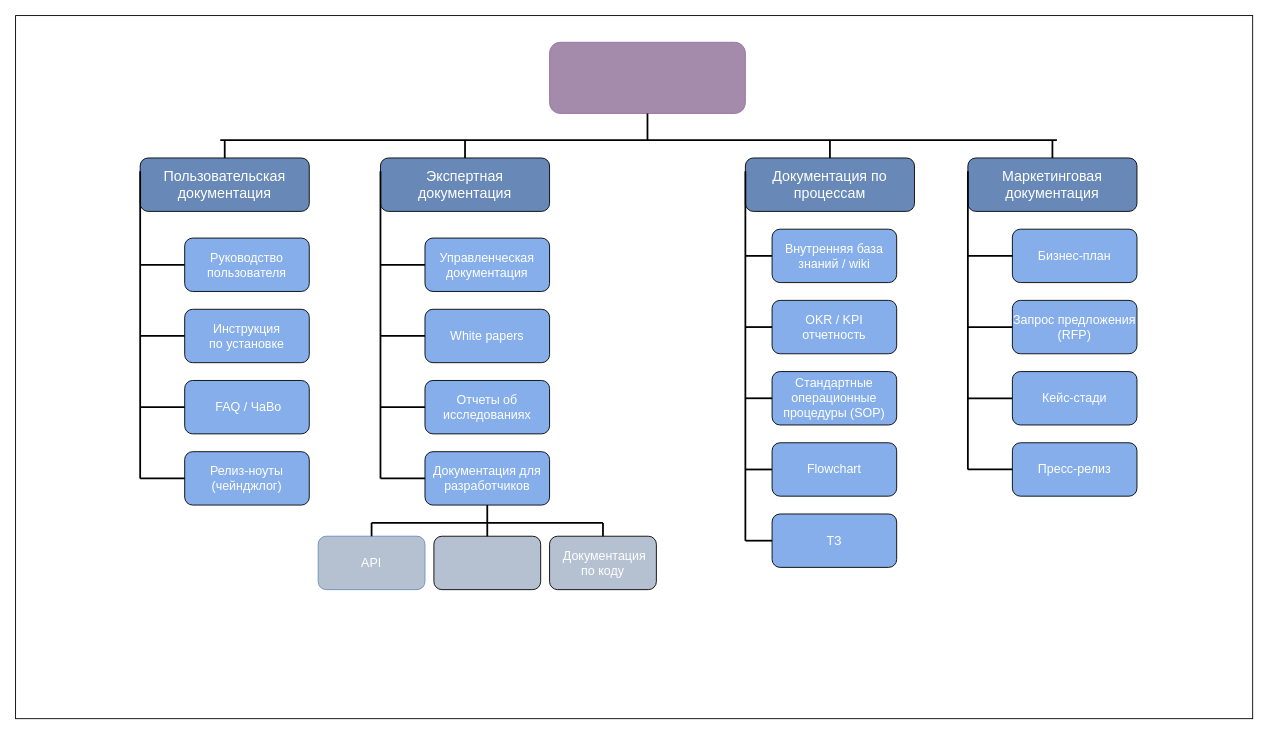
Some shapes in this 1268 by 734 pixel diagram are drawn without their labels. The shapes that lost their labels are listed below. From the top down, each one's centre as x and y in pixels, then its label:
At pixel 647 77: "Техническая документация".
At pixel 487 562: "SDK".
